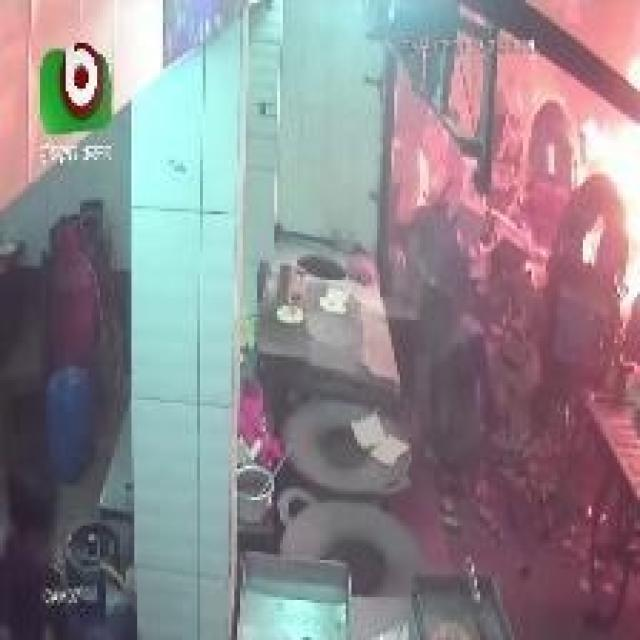fire: (525, 25, 640, 240)
